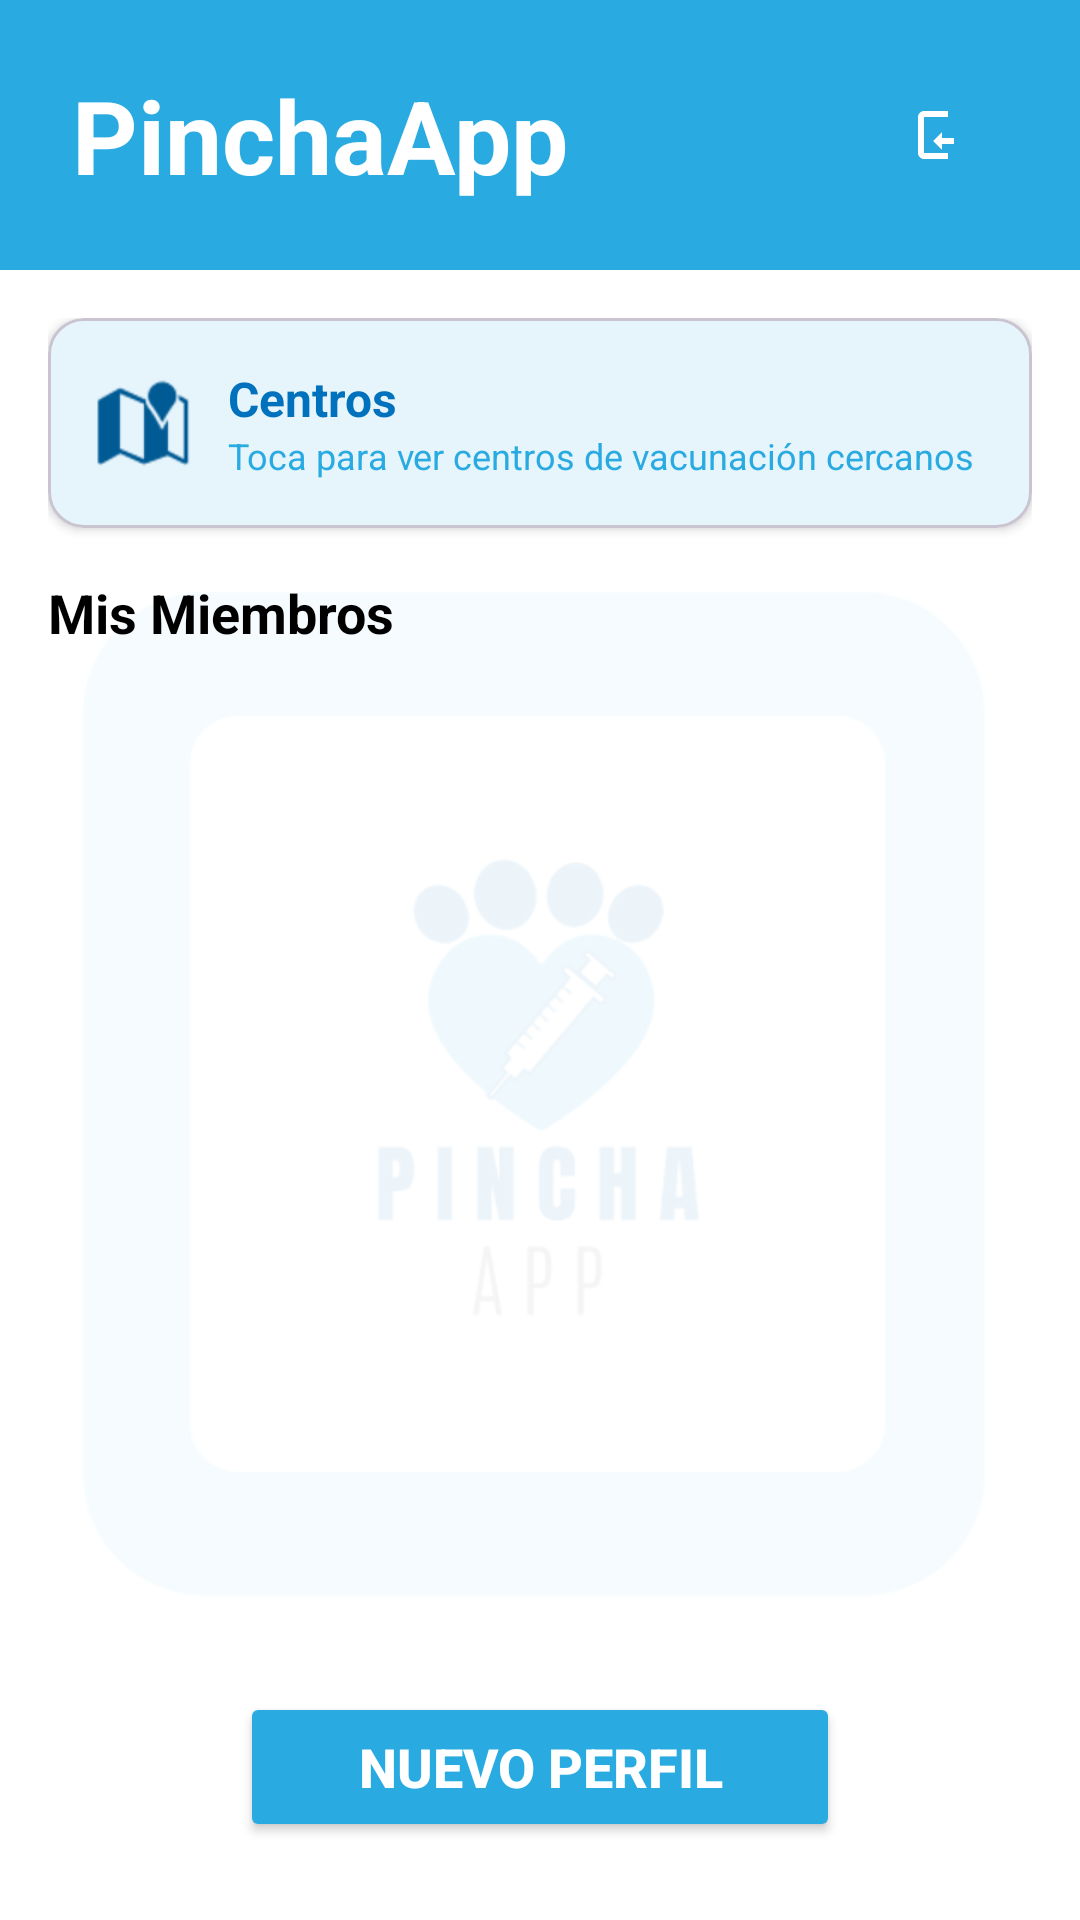

Locate icon controls on the screen. Image size 1080*1920, boxes as (x1, y1, x2, y2).
map: (97, 381, 189, 465)
